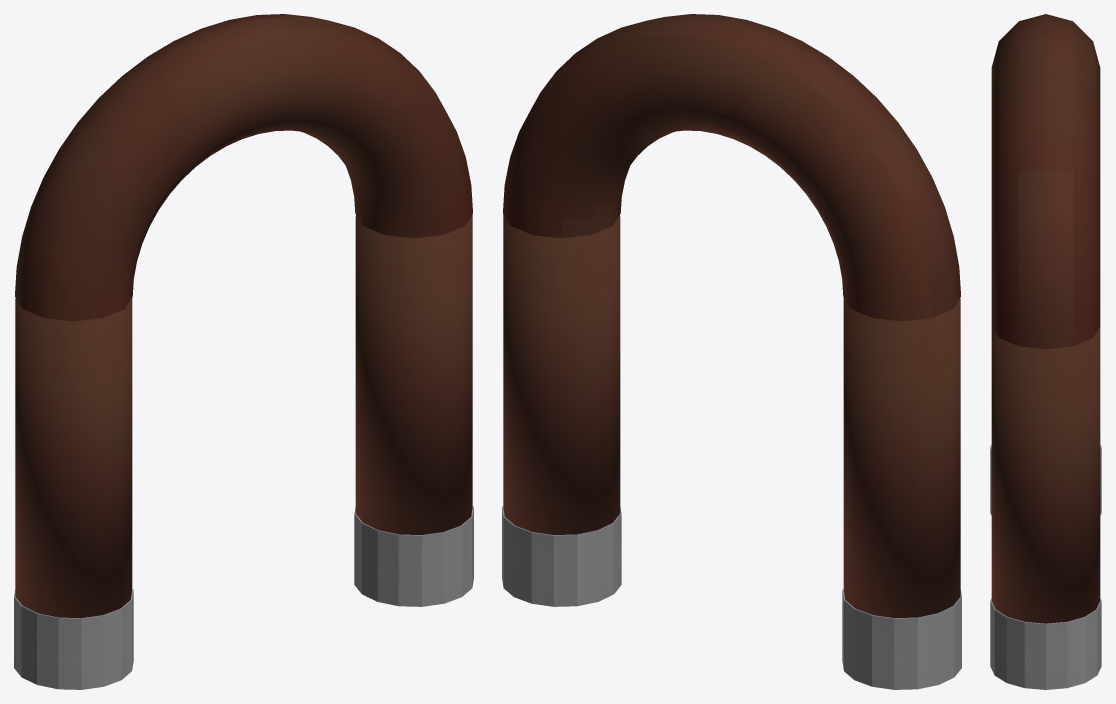
The model's file is P33_HorseshoeMagnet.glb.
The picture shows the model from 3 angles, left to right: view 1: azimuth 30°, elevation 25°; view 2: azimuth 150°, elevation 25°; view 3: azimuth 270°, elevation 25°; orthographic projection. The views are drawn at different scales.
Parts seen in each view (by area): view 1: P33_HorseshoeMagnet; view 2: P33_HorseshoeMagnet; view 3: P33_HorseshoeMagnet.
Part boxes in pixels (x1,y1,x2,y2): P33_HorseshoeMagnet: (14, 14, 473, 689); P33_HorseshoeMagnet: (502, 14, 961, 689); P33_HorseshoeMagnet: (990, 14, 1101, 689).
Size of the model in its own units: 0.0776 by 0.1 by 0.0182.
2 materials, 2 textured.
